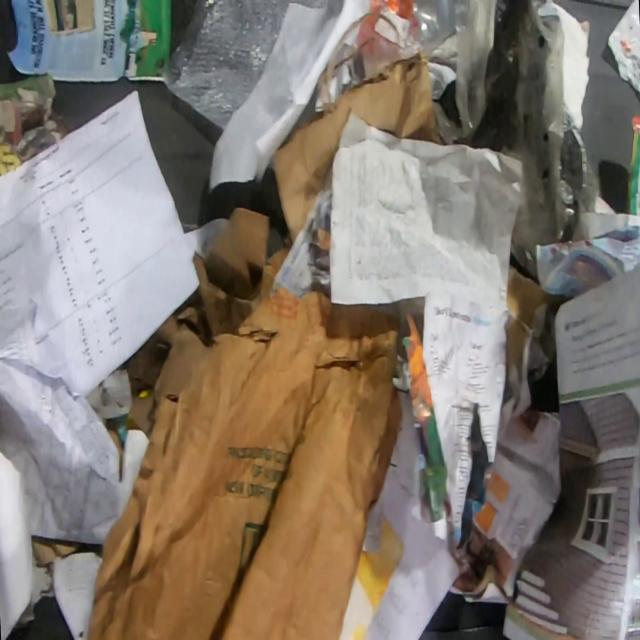cardboard: (85, 287, 404, 640), (273, 52, 444, 245), (172, 206, 292, 347), (126, 332, 171, 438)
soft_plastic: (432, 0, 598, 285), (314, 0, 467, 112), (157, 0, 290, 128)
